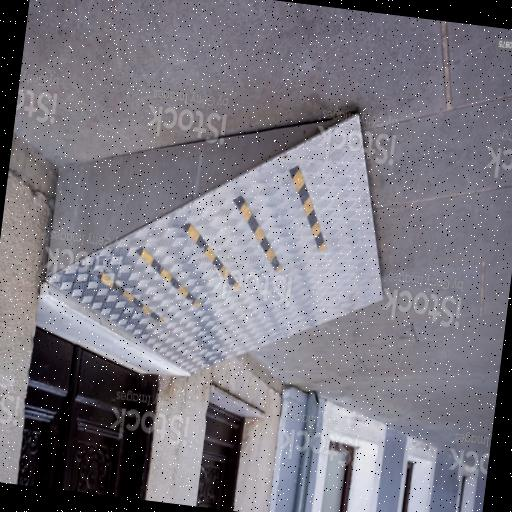ramp: (32, 79, 406, 402)
